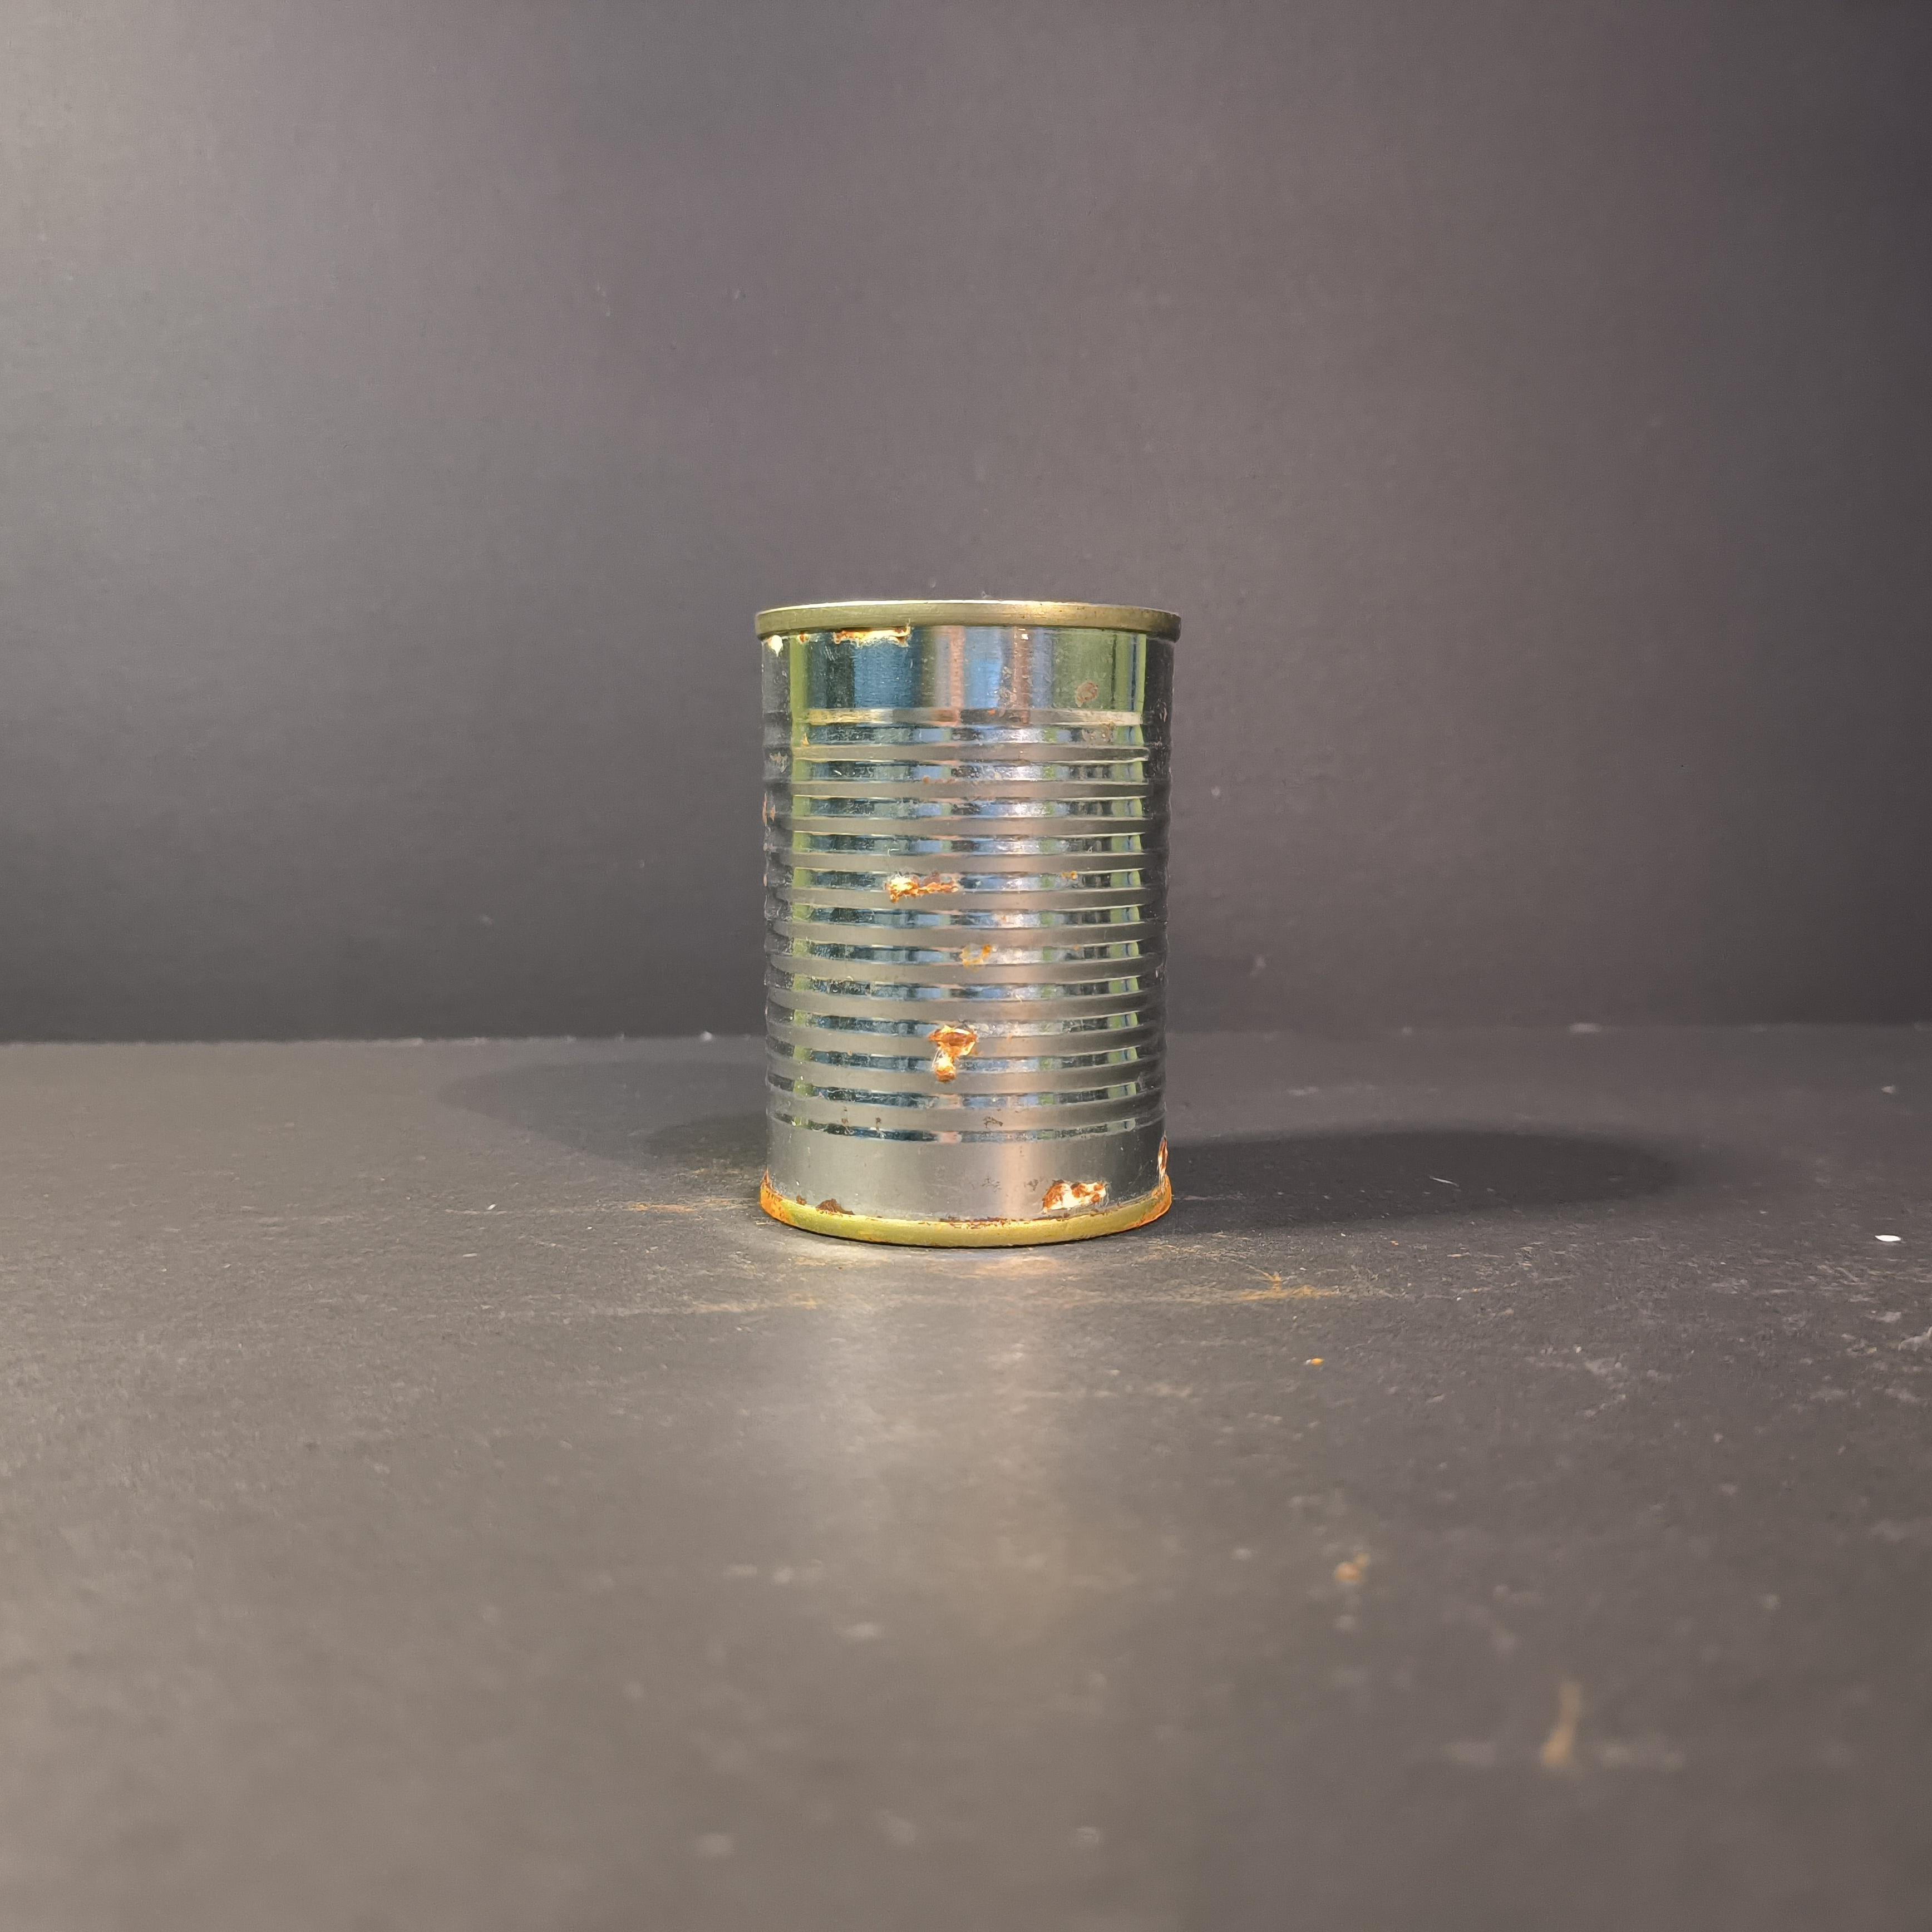Rusted: (732, 570, 1207, 1272)
